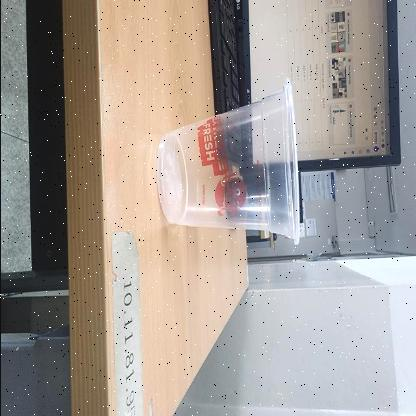Others: (157, 80, 301, 246)
